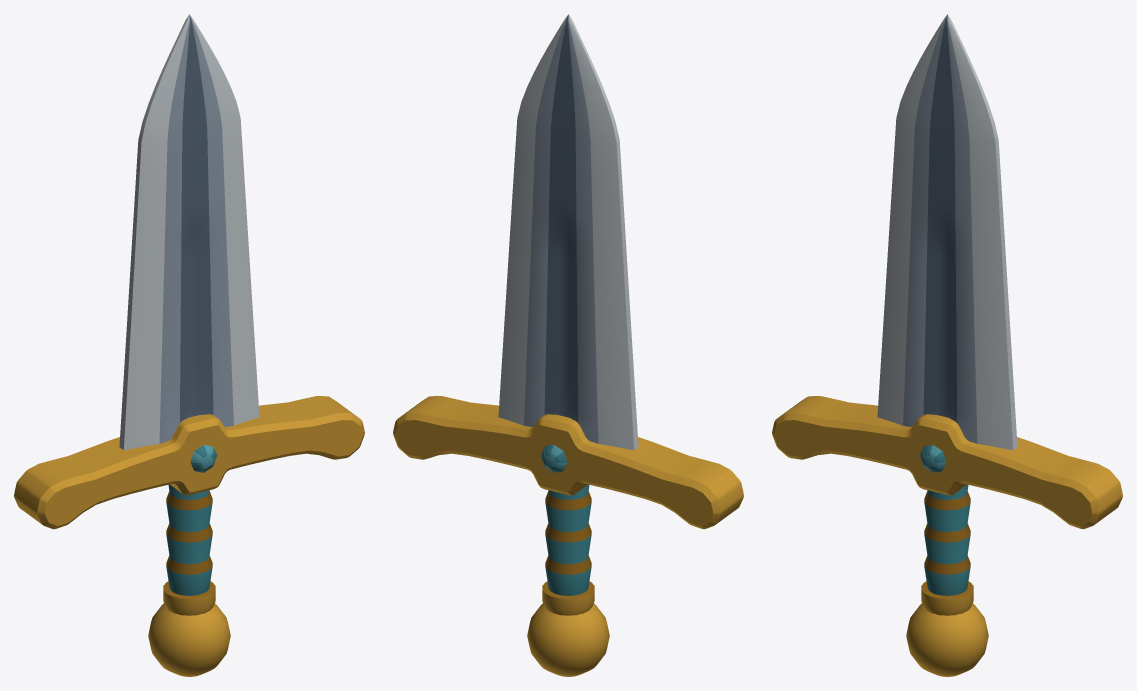
Rendered from Broadsword_07.glb.
The picture shows the model from 3 angles, left to right: view 1: azimuth 30°, elevation 25°; view 2: azimuth 150°, elevation 25°; view 3: azimuth 330°, elevation 25°; orthographic projection.
Visible parts, largest first — view 1: Broadsword_07; view 2: Broadsword_07; view 3: Broadsword_07.
Part boxes in pixels (x1,y1,x2,y2): Broadsword_07: [14, 14, 364, 676]; Broadsword_07: [393, 14, 743, 676]; Broadsword_07: [772, 14, 1122, 676].
Bounding box in the file's own units: 3.08 × 5.93 × 0.674.
